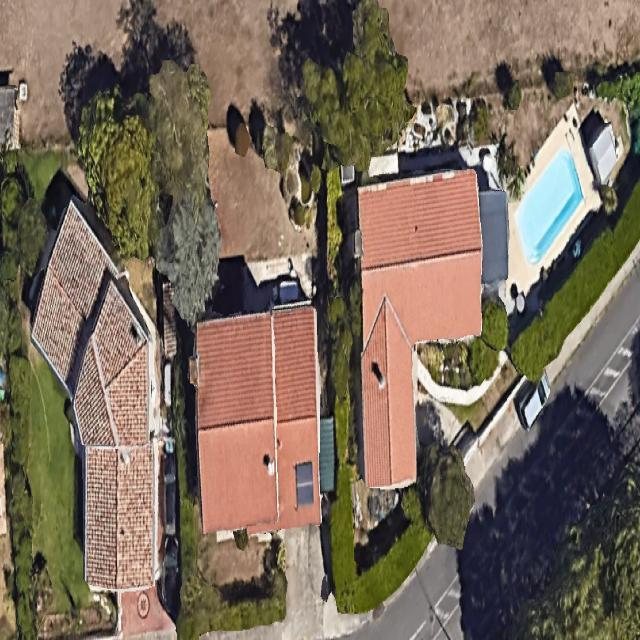maison: (8, 188, 200, 599), (358, 168, 484, 487), (187, 302, 327, 537)
